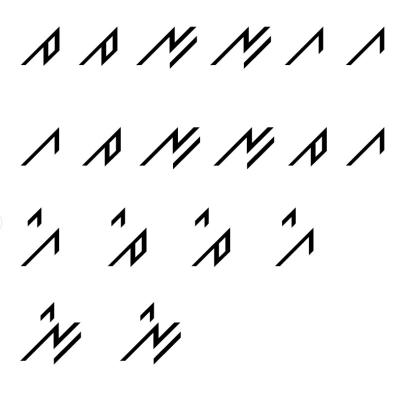ga: (338, 121, 390, 170), (16, 124, 64, 171), (340, 25, 388, 69), (285, 22, 326, 69)
gi: (265, 205, 317, 270), (15, 202, 64, 268)
nga: (138, 120, 204, 178), (136, 23, 200, 80), (210, 119, 277, 172), (209, 18, 273, 72)
ngi: (114, 300, 184, 372), (13, 299, 85, 367)
ta: (12, 24, 63, 78), (74, 124, 124, 175), (75, 21, 121, 68), (285, 123, 329, 170)
ti: (180, 206, 237, 270), (102, 206, 152, 272)
